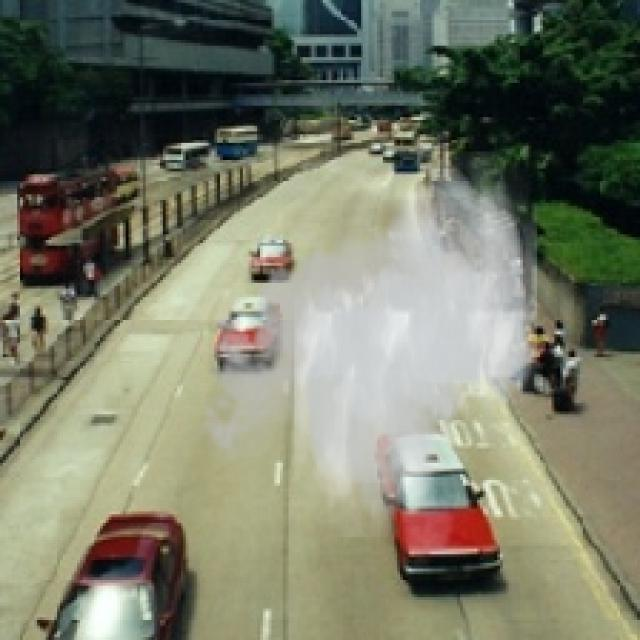smoke: (192, 152, 537, 537)
